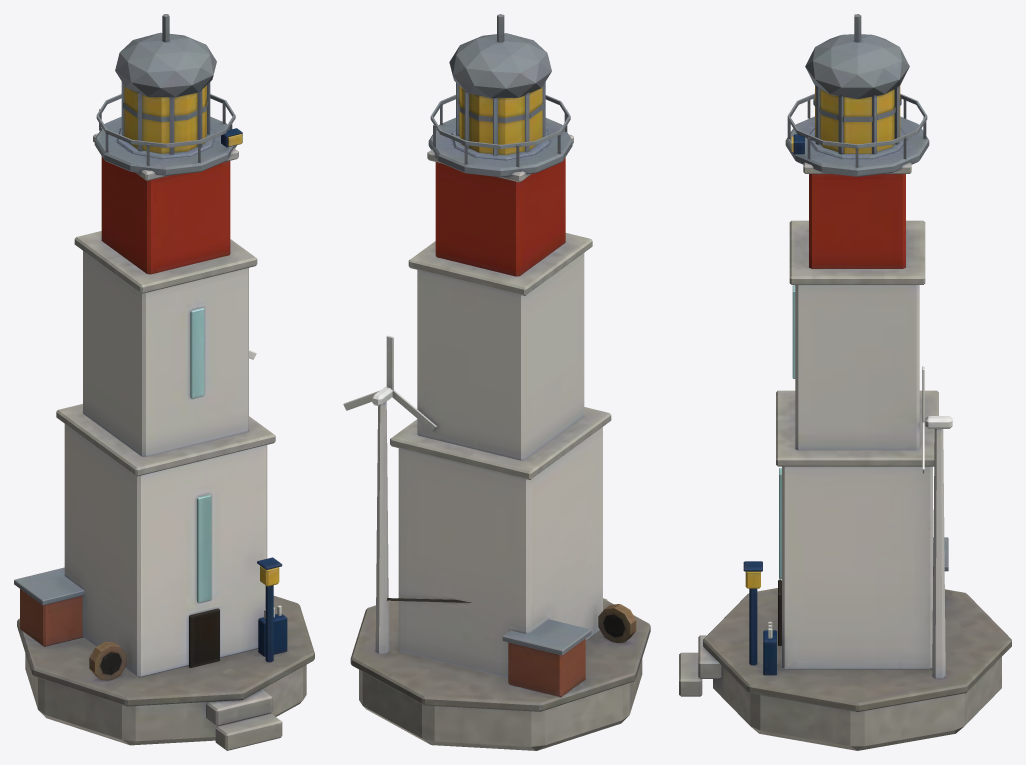
The model's file is lighthouse-20.glb.
The picture shows the model from 3 angles, left to right: view 1: azimuth 30°, elevation 25°; view 2: azimuth 150°, elevation 25°; view 3: azimuth 270°, elevation 25°; orthographic projection.
Visible parts, largest first — view 1: lighthouse-20; view 2: lighthouse-20; view 3: lighthouse-20.
Part boxes in pixels (<box>): lighthouse-20: <box>14,14,314,750</box>; lighthouse-20: <box>343,14,650,750</box>; lighthouse-20: <box>679,14,1011,750</box>.
Size of the model in its own units: 1.59 by 3.85 by 1.72.
Materials: 1 (1 with a texture image).
